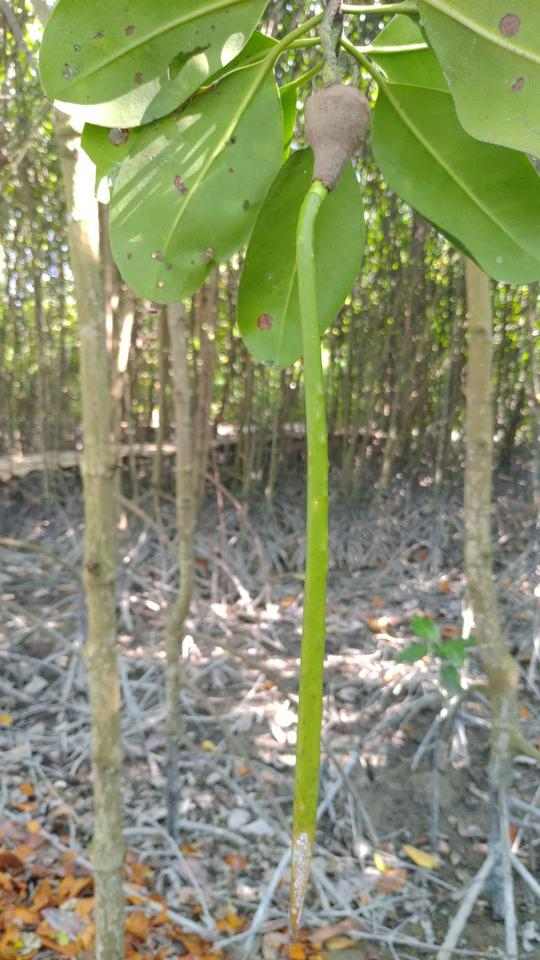setengah matang: (261, 60, 380, 940)
